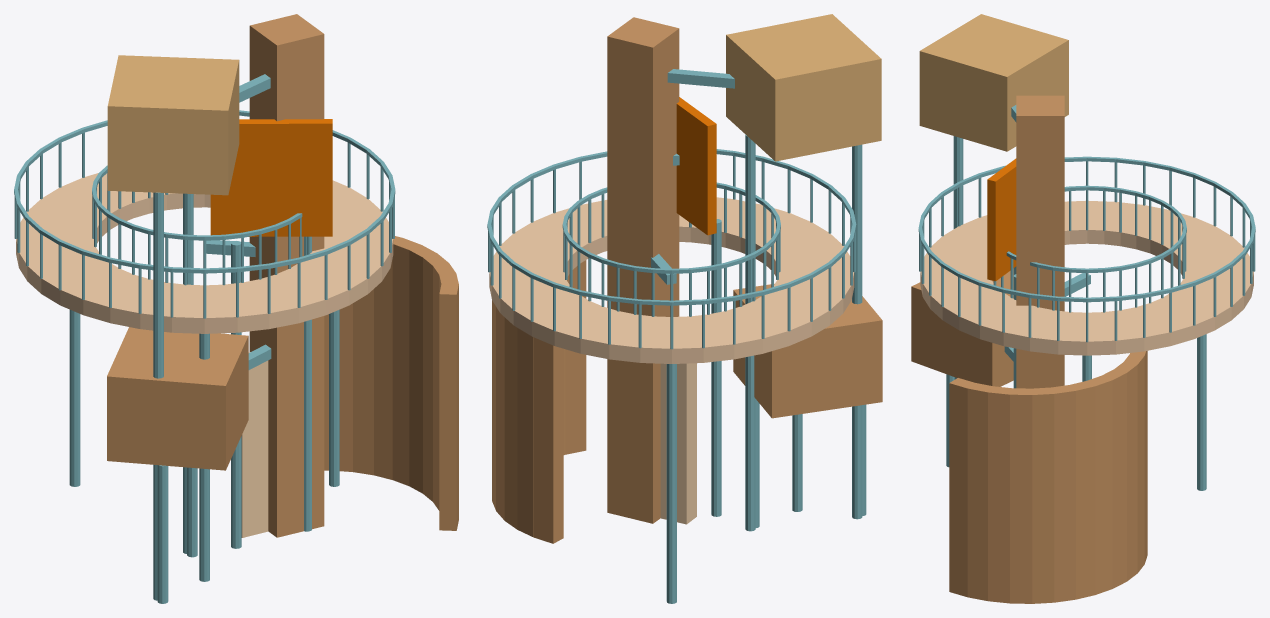
The model's file is folie_tag_056.glb.
3 renders of one model, left to right at view 1: azimuth 30°, elevation 25°; view 2: azimuth 150°, elevation 25°; view 3: azimuth 270°, elevation 25°, orthographic. The views are drawn at different scales.
Parts seen in each view (by area): view 1: folie_tag_056_line, folie_tag_056_02_curve, folie_tag_056_00_ring, folie_tag_056_core, folie_tag_056_01_block, folie_tag_056_03_block, folie_tag_056_05_panel, folie_tag_056_04_fin; view 2: folie_tag_056_line, folie_tag_056_00_ring, folie_tag_056_core, folie_tag_056_01_block, folie_tag_056_02_curve, folie_tag_056_03_block, folie_tag_056_05_panel, folie_tag_056_04_fin; view 3: folie_tag_056_02_curve, folie_tag_056_00_ring, folie_tag_056_line, folie_tag_056_01_block, folie_tag_056_core, folie_tag_056_03_block, folie_tag_056_05_panel.
Part boxes in pixels (bbox=[...]): folie_tag_056_line: bbox=[14, 74, 395, 603]; folie_tag_056_02_curve: bbox=[324, 236, 458, 530]; folie_tag_056_00_ring: bbox=[16, 173, 393, 333]; folie_tag_056_core: bbox=[249, 14, 324, 537]; folie_tag_056_01_block: bbox=[107, 55, 239, 195]; folie_tag_056_03_block: bbox=[107, 327, 248, 470]; folie_tag_056_05_panel: bbox=[210, 119, 332, 236]; folie_tag_056_04_fin: bbox=[241, 352, 268, 537]; folie_tag_056_line: bbox=[487, 69, 866, 603]; folie_tag_056_00_ring: bbox=[489, 197, 854, 363]; folie_tag_056_core: bbox=[607, 17, 679, 523]; folie_tag_056_01_block: bbox=[726, 14, 881, 161]; folie_tag_056_02_curve: bbox=[492, 260, 586, 543]; folie_tag_056_03_block: bbox=[733, 284, 882, 418]; folie_tag_056_05_panel: bbox=[676, 97, 716, 235]; folie_tag_056_04_fin: bbox=[660, 363, 696, 524]; folie_tag_056_02_curve: bbox=[949, 351, 1147, 603]; folie_tag_056_00_ring: bbox=[920, 200, 1253, 355]; folie_tag_056_line: bbox=[918, 105, 1255, 490]; folie_tag_056_01_block: bbox=[919, 14, 1068, 151]; folie_tag_056_core: bbox=[1016, 95, 1064, 388]; folie_tag_056_03_block: bbox=[911, 268, 1013, 386]; folie_tag_056_05_panel: bbox=[987, 158, 1016, 281].
Bounding box in the file's own units: 8.53 × 10.94 × 7.85.
